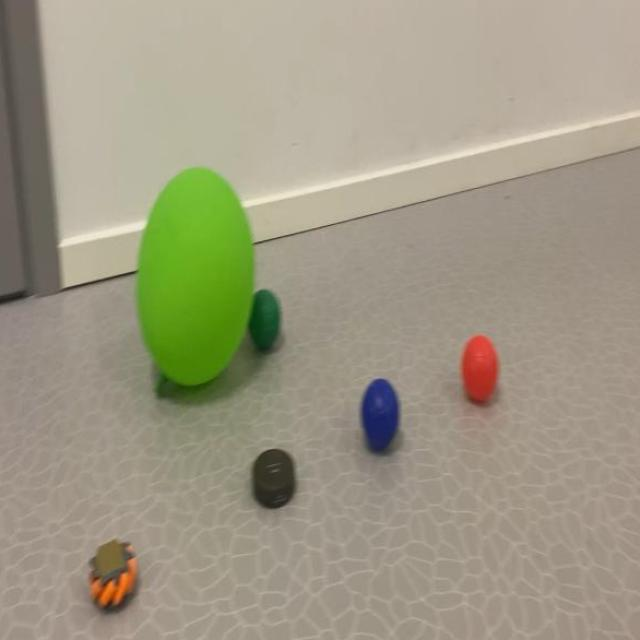blue ball: (356, 384, 406, 451)
green ball: (260, 287, 289, 363)
red ball: (456, 337, 506, 403)
